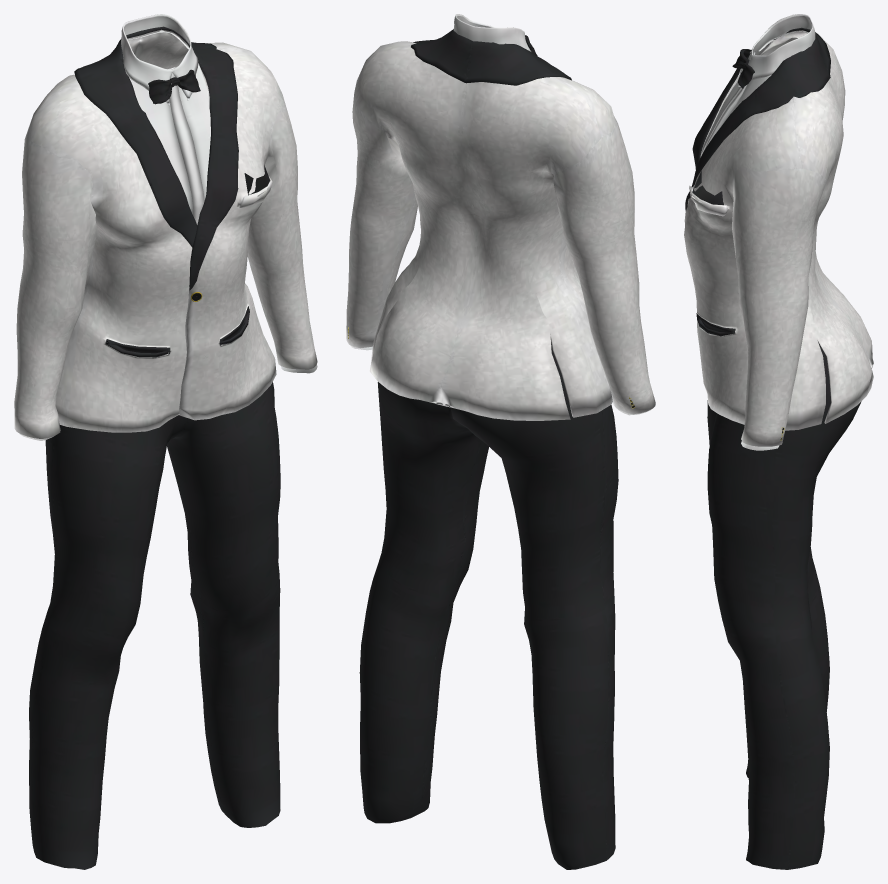
Rendered from toigo-suit-with-dinner-jacket.glb.
The picture shows the model from 3 angles, left to right: view 1: azimuth 30°, elevation 25°; view 2: azimuth 150°, elevation 25°; view 3: azimuth 270°, elevation 25°; orthographic projection. The views are drawn at different scales.
Visible parts, largest first — view 1: Human.toigo_suit_with_dinner_jacket; view 2: Human.toigo_suit_with_dinner_jacket; view 3: Human.toigo_suit_with_dinner_jacket.
Boxes of the visible parts, bbox=[...] form: Human.toigo_suit_with_dinner_jacket: bbox=[14, 14, 317, 869]; Human.toigo_suit_with_dinner_jacket: bbox=[346, 14, 655, 869]; Human.toigo_suit_with_dinner_jacket: bbox=[684, 14, 873, 869].
Bounding box in the file's own units: 0.5252 × 1.36 × 0.2949.
Materials: 1 (1 with a texture image).
